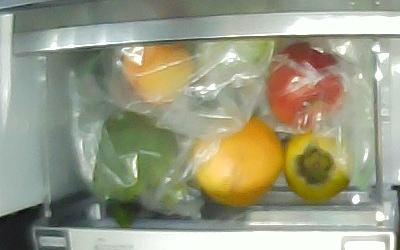apple_vinyl: (266, 43, 344, 130)
broccoli_vinyl: (93, 111, 188, 212)
grapefruit_vinyl: (191, 115, 285, 208)
peach_vinyl: (121, 42, 193, 104)
persimmon_vinyl: (285, 130, 352, 202)
